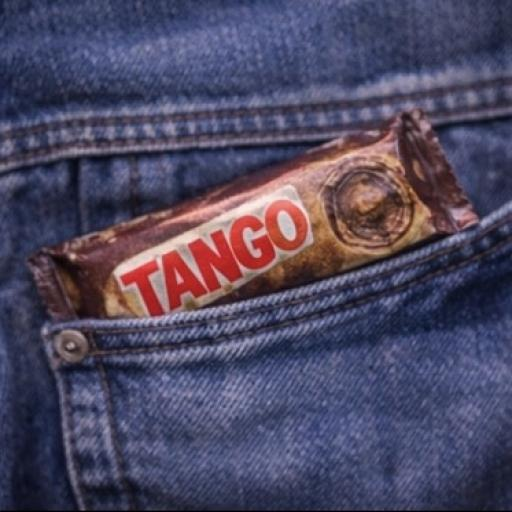tango: (22, 115, 489, 349)
